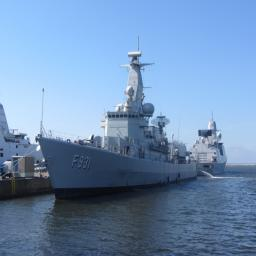Fragata: (37, 52, 203, 204)
